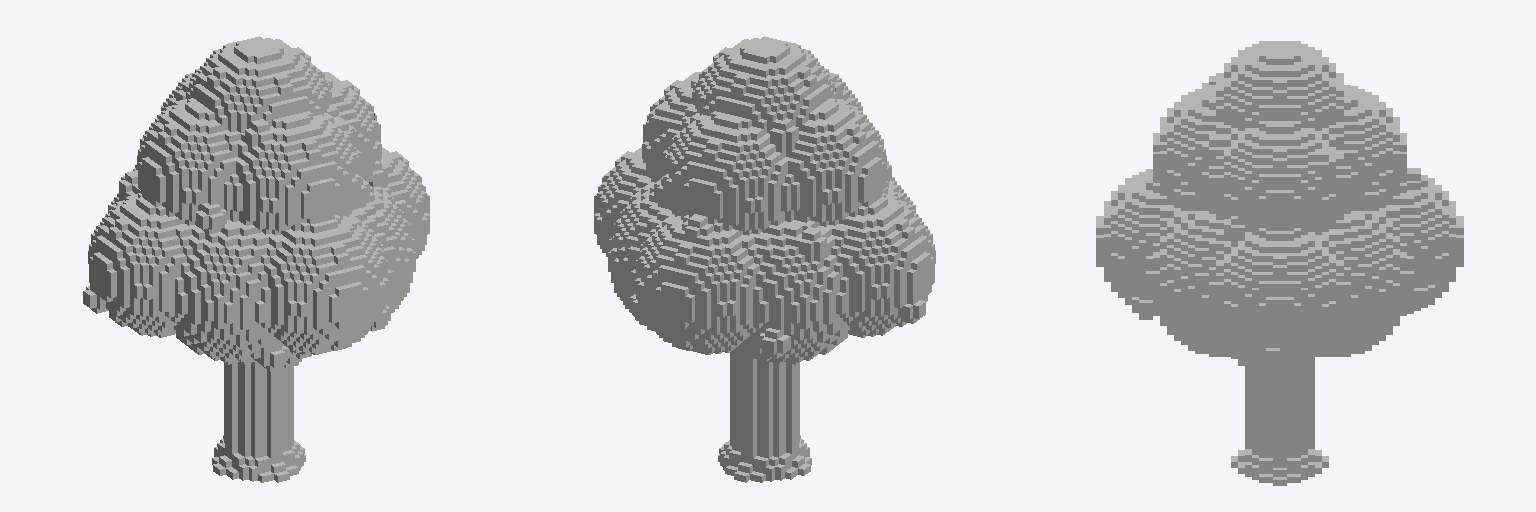
File: berry tree.obj
3 renders of one model, left to right at view 1: azimuth 30°, elevation 25°; view 2: azimuth 150°, elevation 25°; view 3: azimuth 270°, elevation 25°, orthographic.
Visible parts, largest first — view 1: object 1; view 2: object 1; view 3: object 1.
Boxes of the visible parts, <box> form: object 1: <box>83,36,429,482</box>; object 1: <box>594,36,935,482</box>; object 1: <box>1096,41,1463,485</box>.
Bounding box in the file's own units: 5.3 × 6.5 × 5.2.